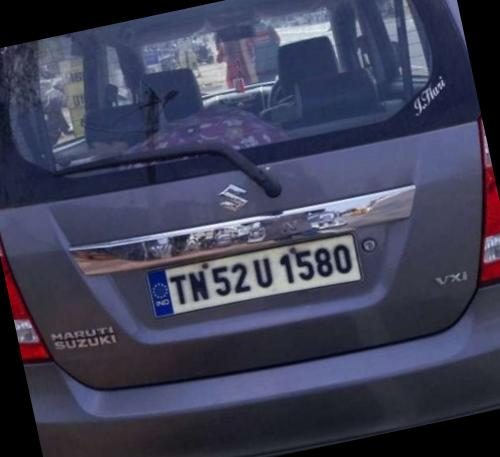plate: (149, 210, 380, 336)
